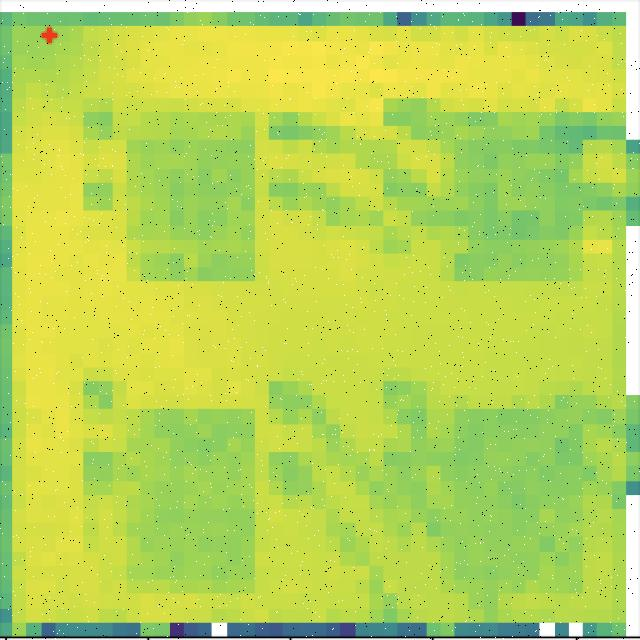Concrete: (456, 409, 582, 592)
Glass: (128, 408, 255, 594)
Metal: (458, 116, 582, 279)
Wood: (125, 113, 256, 281)
